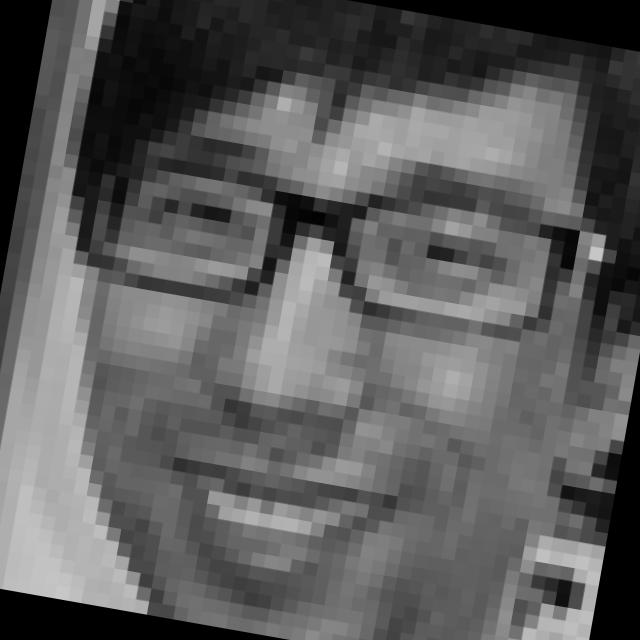happy: (78, 111, 567, 640)
